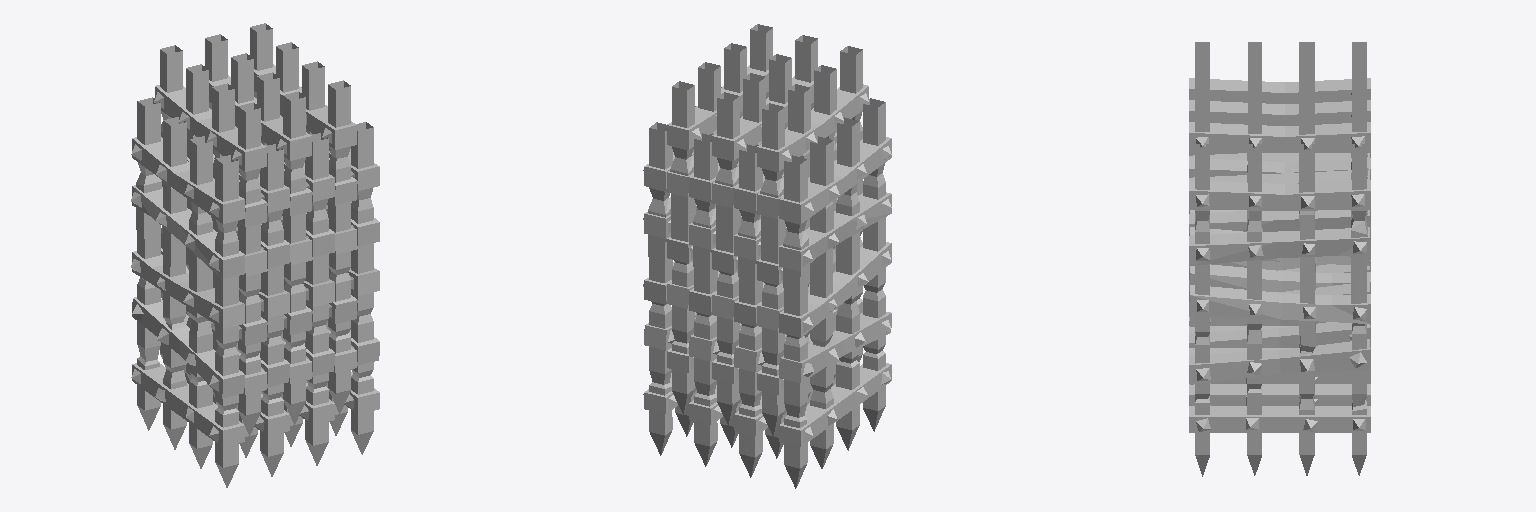
The model's file is gate_thick.obj.
3 renders of one model, left to right at view 1: azimuth 30°, elevation 25°; view 2: azimuth 150°, elevation 25°; view 3: azimuth 270°, elevation 25°, orthographic.
Visible parts, largest first — view 1: gate_thick; view 2: gate_thick; view 3: gate_thick.
Boxes of the visible parts, x1=… form: gate_thick: x1=131, y1=23, x2=379, y2=487; gate_thick: x1=643, y1=24, x2=891, y2=488; gate_thick: x1=1189, y1=42, x2=1370, y2=476.
Bounding box in the file's own units: 386 × 799 × 351.